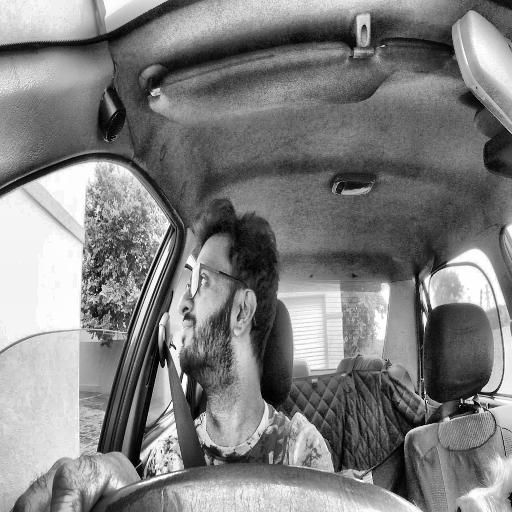awake: (177, 200, 280, 396)
